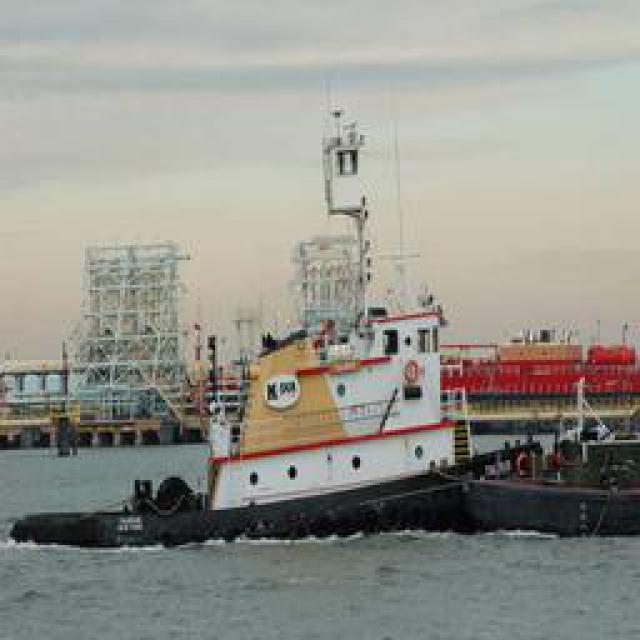Ship: (174, 83, 457, 538)
